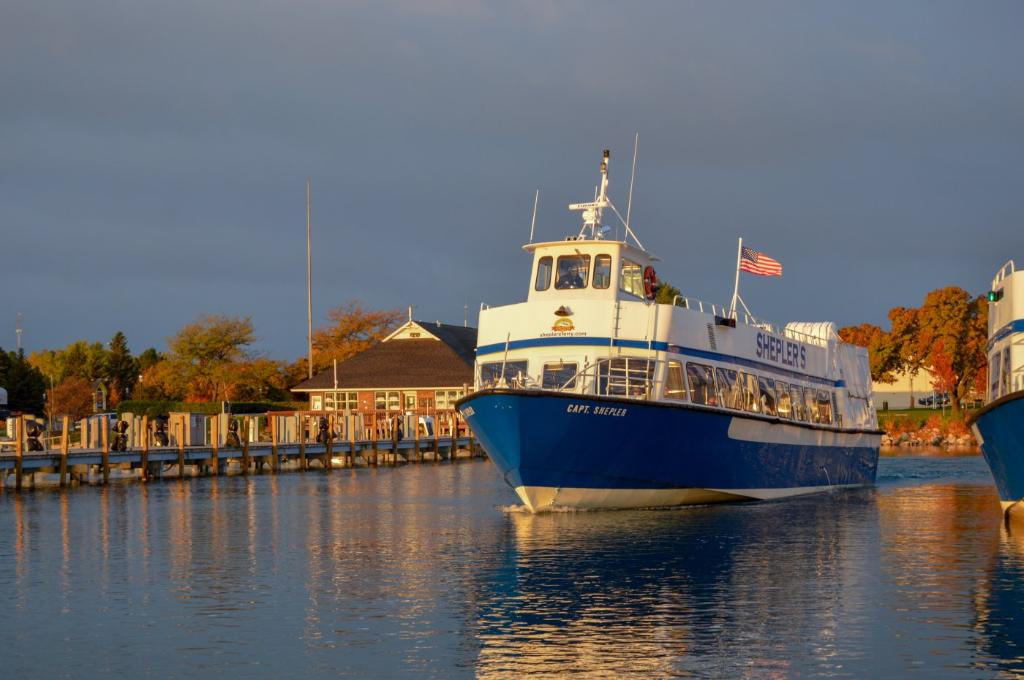PassengerShip: (448, 130, 894, 518)
